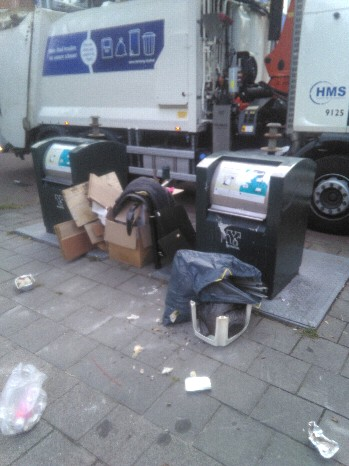Container: (203, 148, 318, 268), (45, 137, 125, 175)
Papier: (59, 183, 126, 263), (119, 177, 185, 239)
Rest: (157, 252, 251, 359)
Voertuig: (65, 17, 349, 139)
